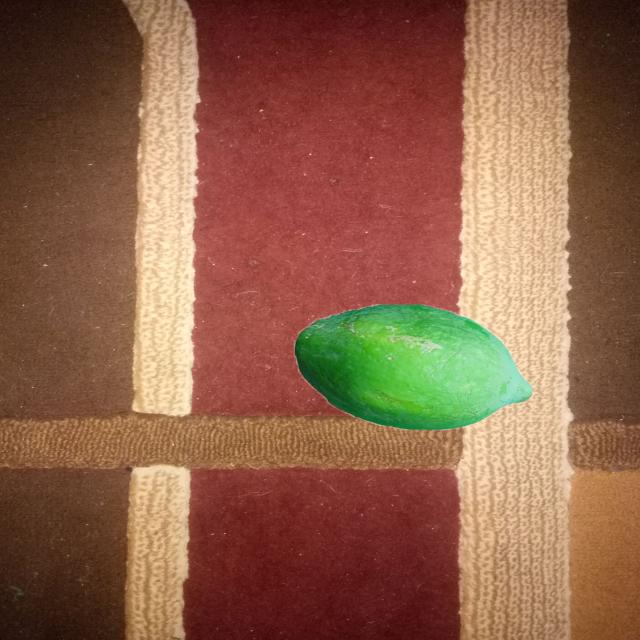Pepaya unrippen: (285, 306, 533, 438)
